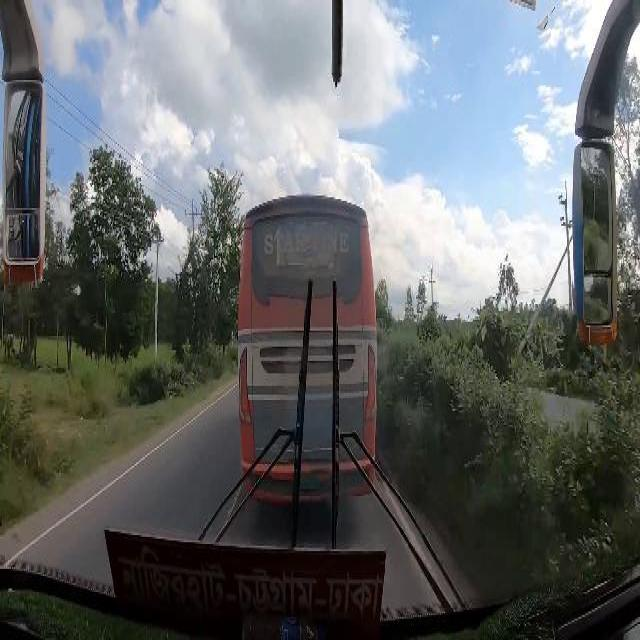Truck: (238, 195, 374, 505)
